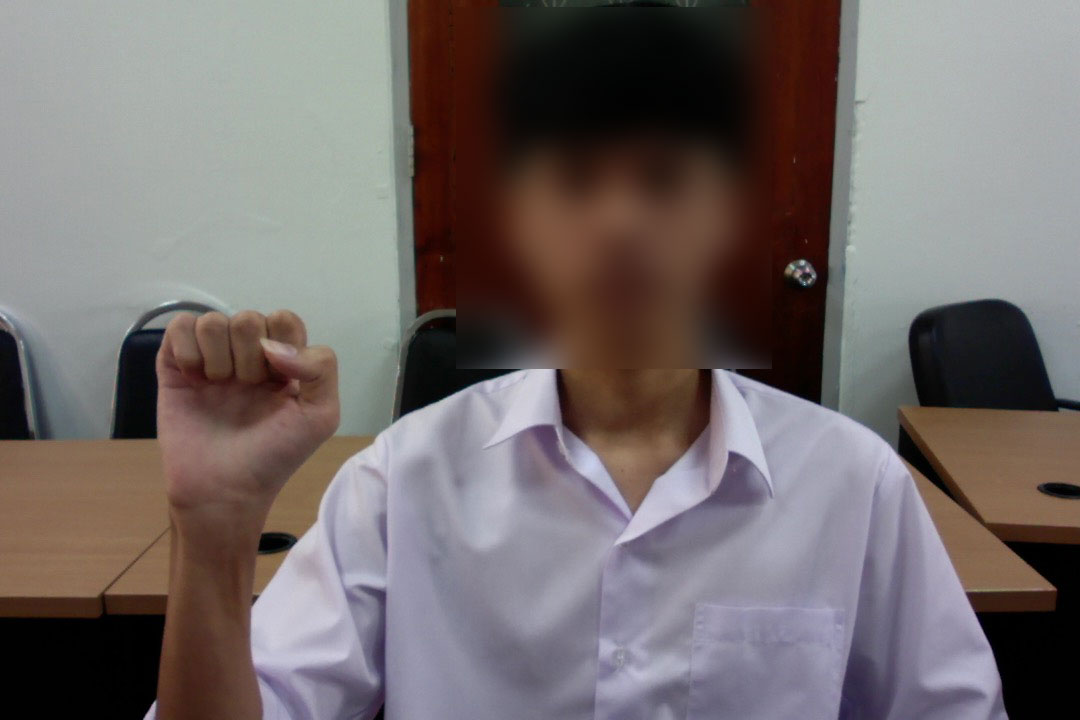sor: (149, 300, 347, 537)
